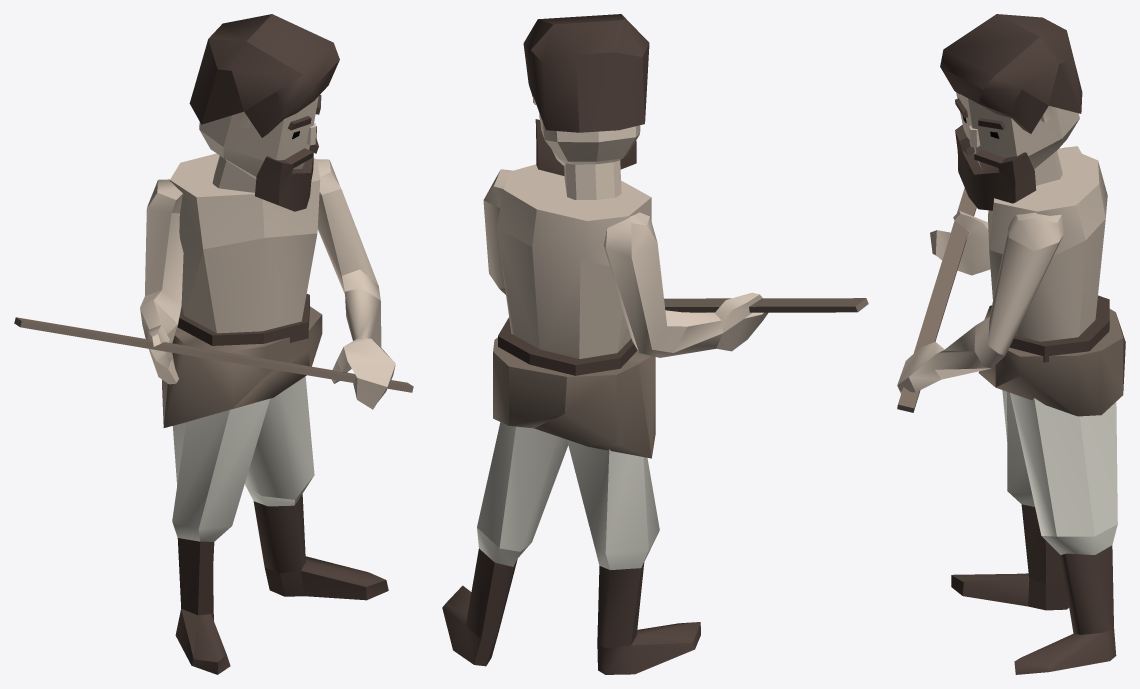
The model's file is Ağaç kesen.fbx.
The picture shows the model from 3 angles, left to right: view 1: azimuth 30°, elevation 25°; view 2: azimuth 150°, elevation 25°; view 3: azimuth 270°, elevation 25°; orthographic projection. The views are drawn at different scales.
Parts seen in each view (by area): view 1: Model; view 2: Model; view 3: Model.
Part boxes in pixels (x1,y1,x2,y2): Model: (14, 14, 413, 674); Model: (442, 14, 868, 674); Model: (897, 14, 1125, 674).
Bounding box in the file's own units: 43.83 × 66.41 × 22.82.
